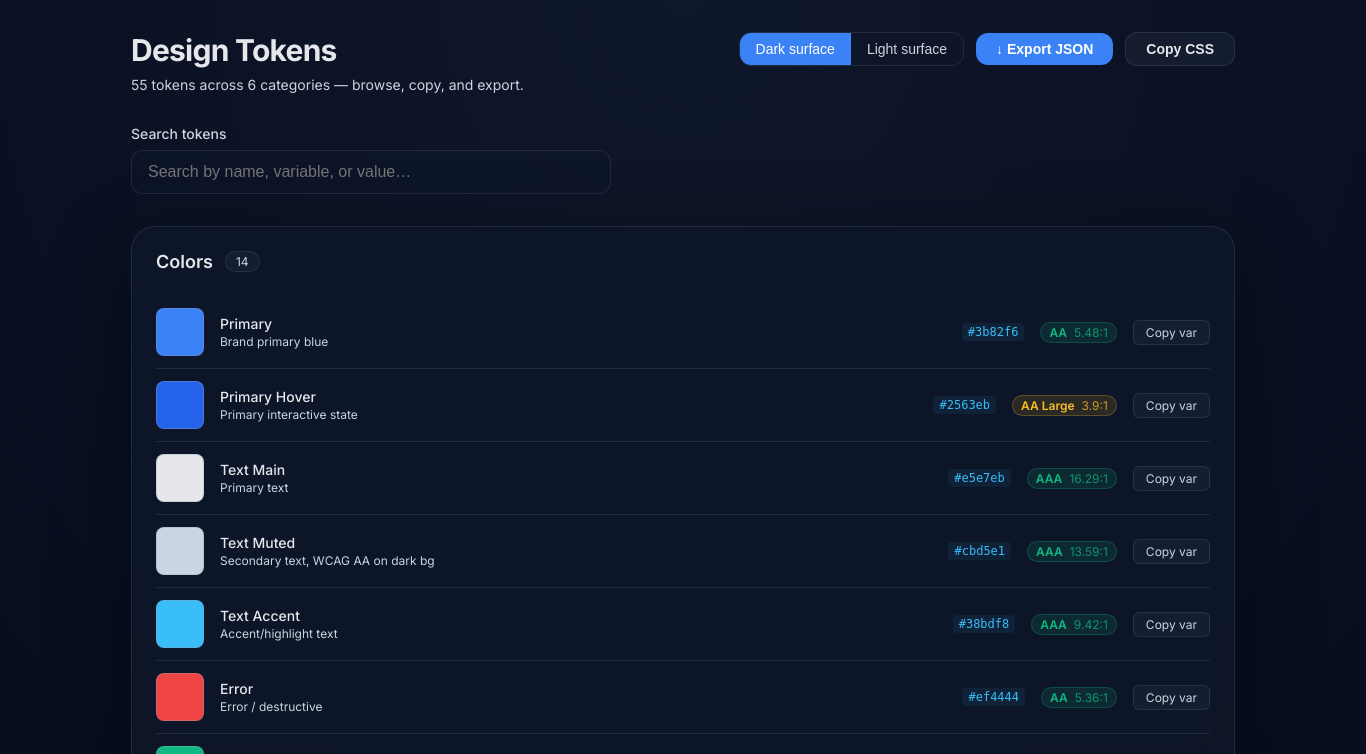
Scenario: DesignTokensPage › shows empty state when no tokens match
Type "xyznotexist" into the search field at (371, 172), box [131, 150, 611, 194]
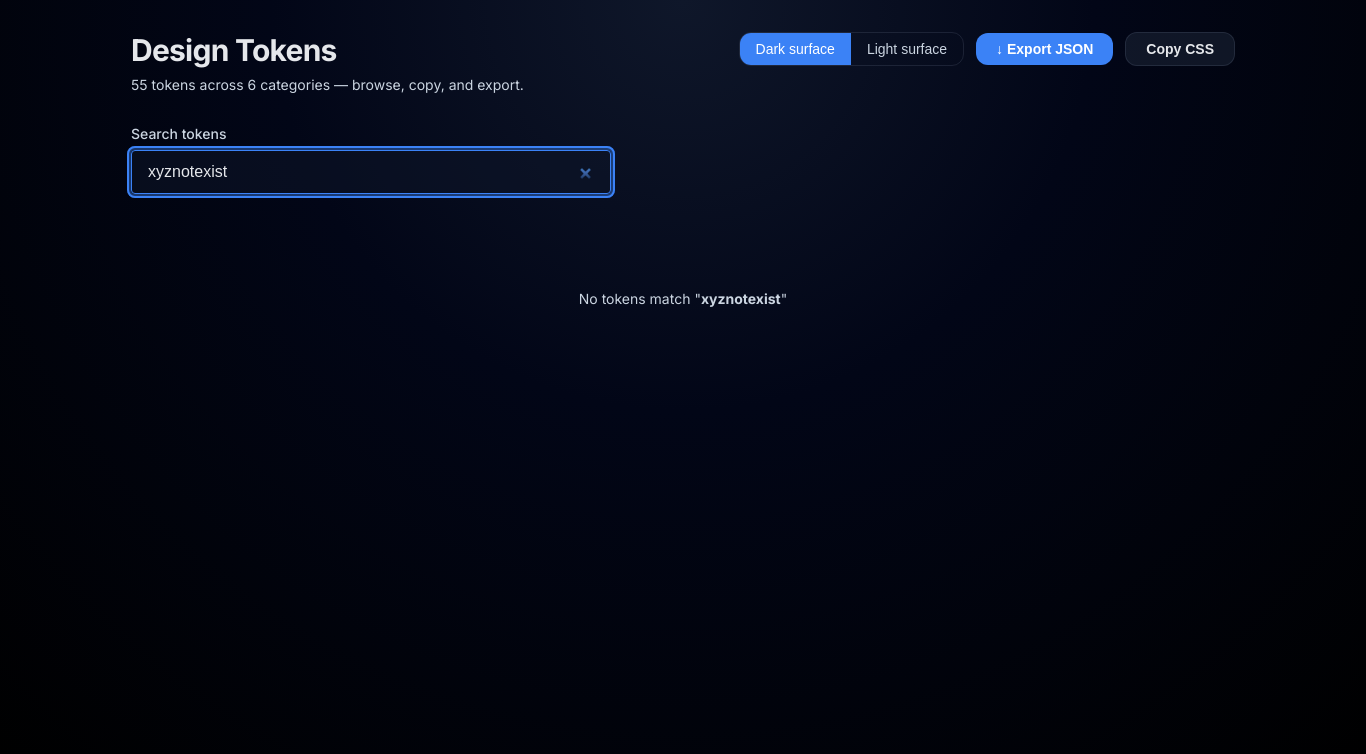
expect the text "No tokens match \"xyznotexist\"" is shown: met, box [579, 290, 787, 307]
